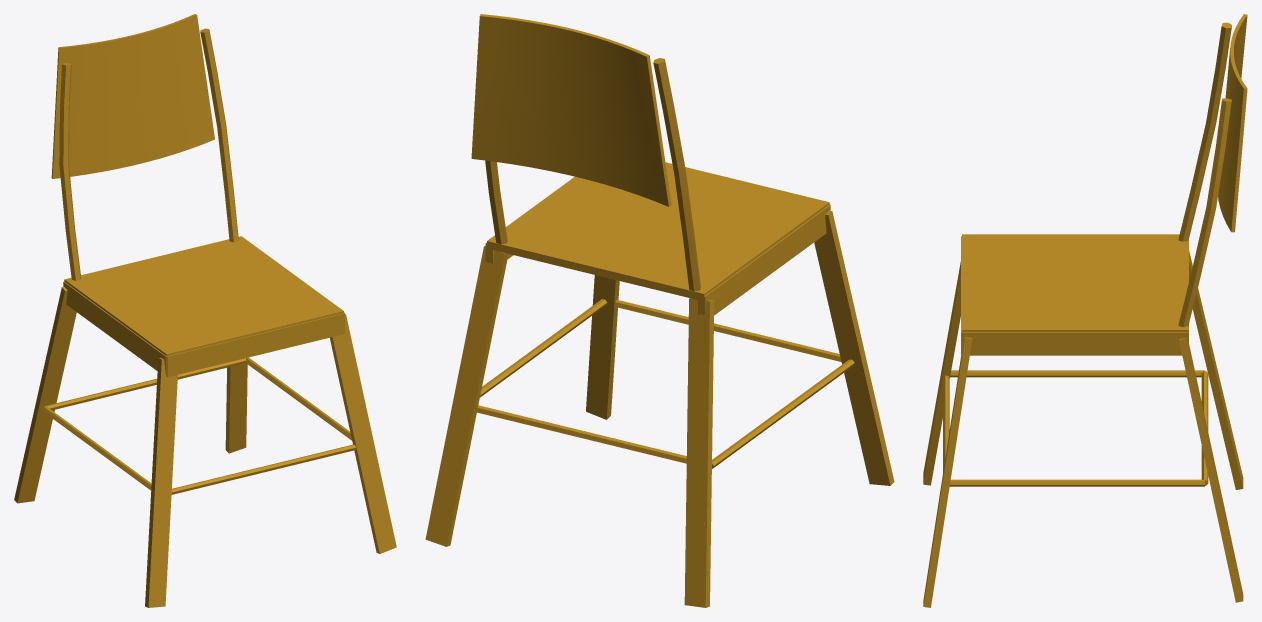
The model's file is metal_mustard.glb.
3 views of the same model, side by side, from view 1: azimuth 30°, elevation 25°; view 2: azimuth 150°, elevation 25°; view 3: azimuth 270°, elevation 25° (orthographic). The views are drawn at different scales.
Parts seen in each view (by area): view 1: metal_mustard; view 2: metal_mustard; view 3: metal_mustard.
Boxes of the visible parts, box(x1,y1,x2,y2) form: metal_mustard: box(14, 14, 396, 607); metal_mustard: box(425, 14, 894, 607); metal_mustard: box(923, 14, 1247, 607).
Size of the model in its own units: 0.5049 by 0.8616 by 0.5141.
